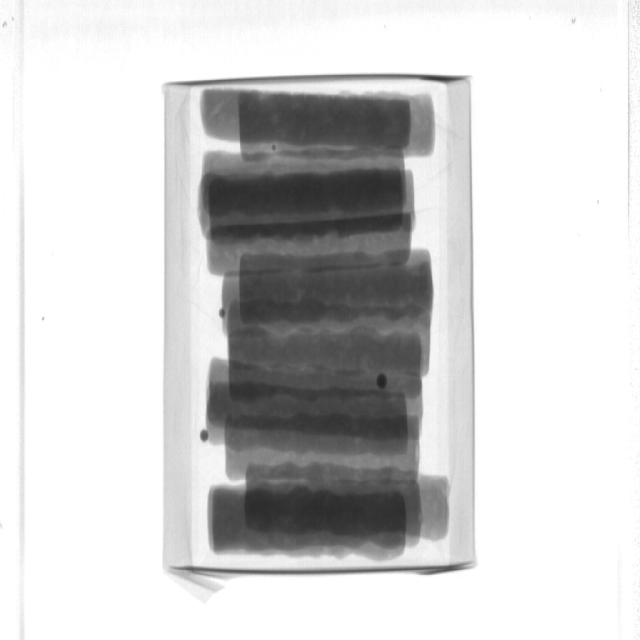ym: (378, 374, 389, 390), (202, 430, 210, 442), (220, 311, 226, 318), (274, 145, 279, 150)
